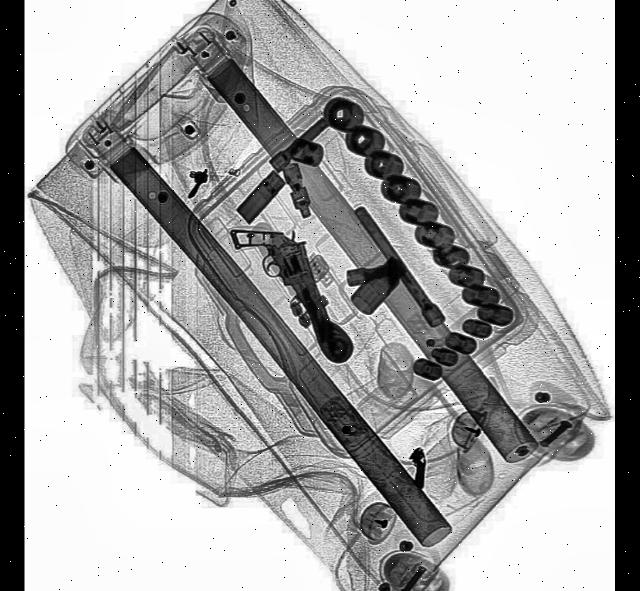Gun: (231, 200, 340, 374)
